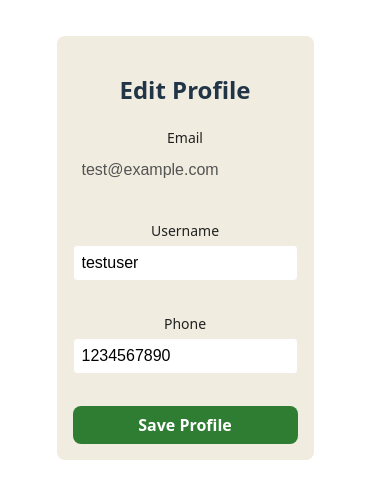
Test: ProfileForm › displays an error message when update fails
Click the button "Save Profile" at (185, 425), box [72,406,298,444]
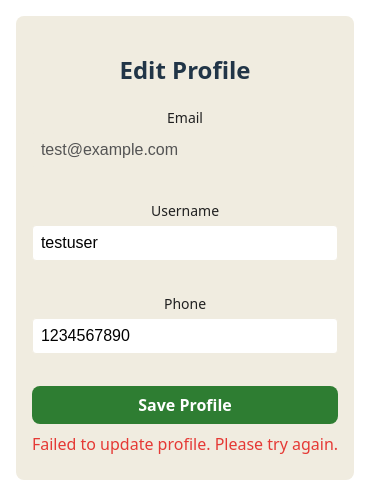
expect the text "Failed to update profile. Please try again." is shown: met, box [32,432,338,456]
